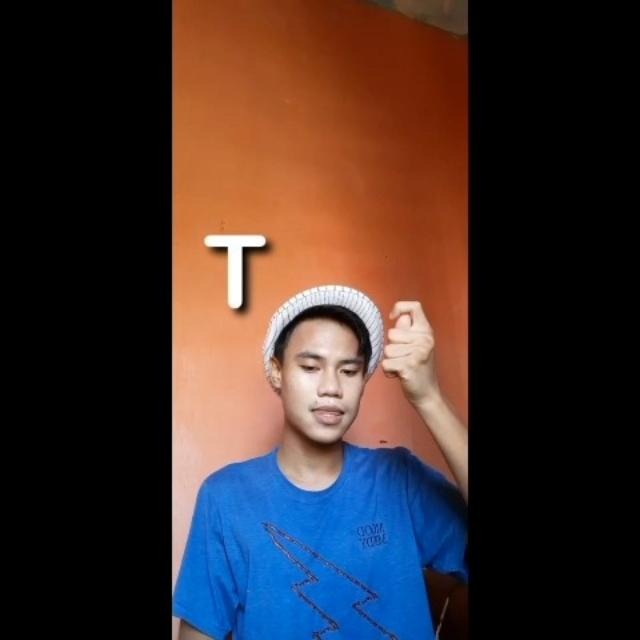T: (378, 298, 444, 399)
